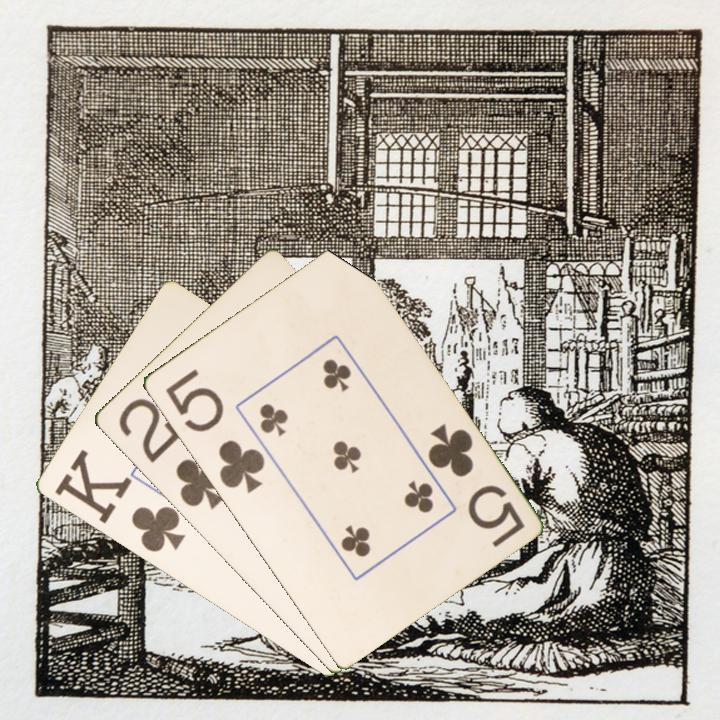2c: (114, 394, 227, 513)
5c: (161, 365, 268, 496), (423, 420, 528, 550)
Kc: (50, 446, 188, 556)
